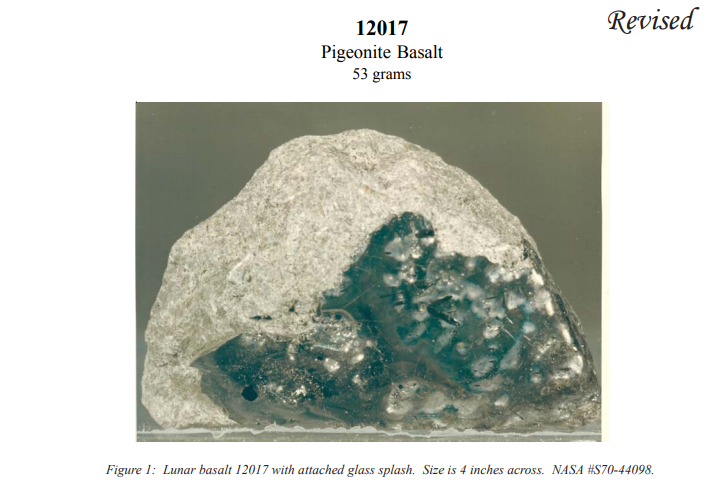Basalt: (132, 101, 599, 442)
